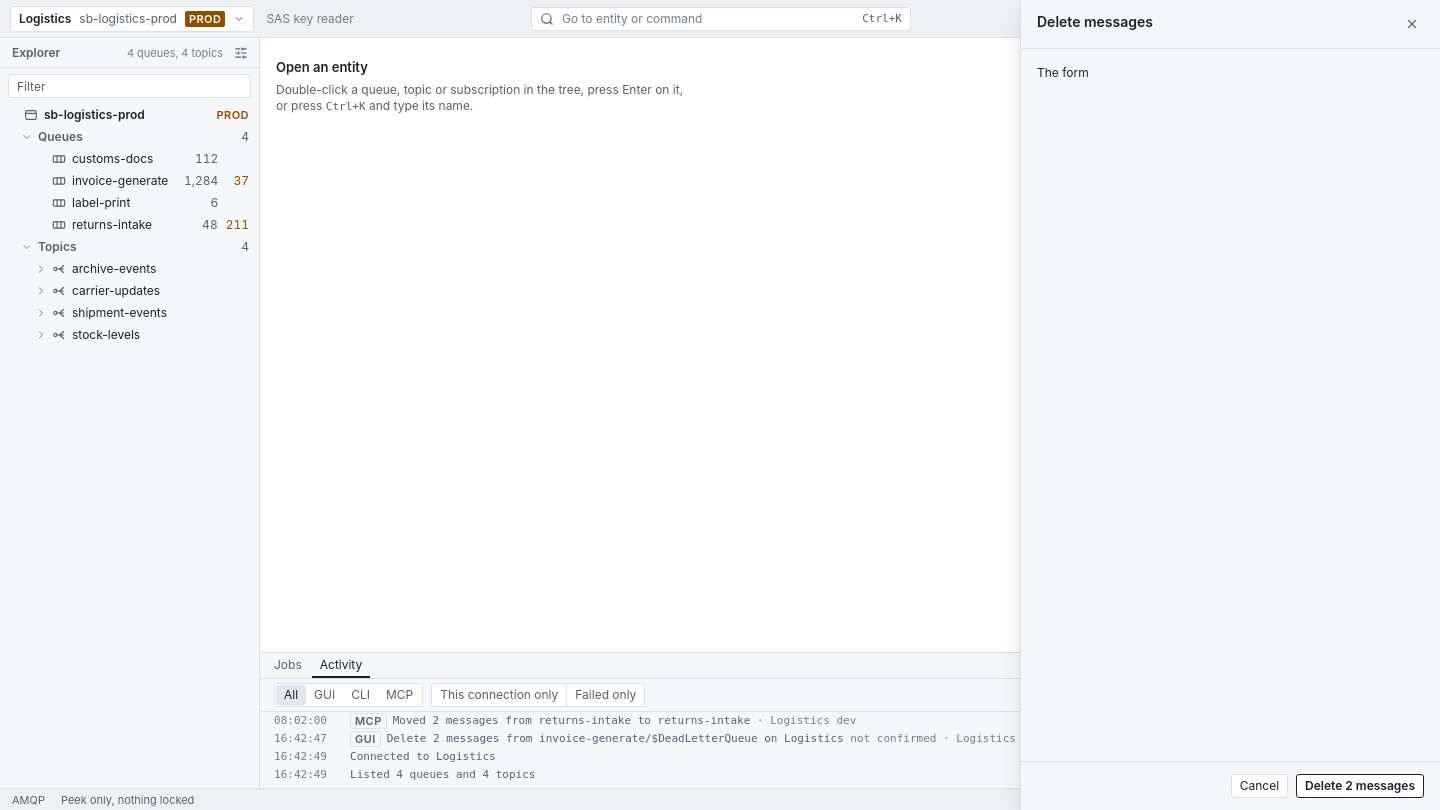
Test case: OperationSheet › a refused start shows the problem in the form and stays on it
The width and height of the screenshot is (1440, 810).
(page scrolled)
Click the button "Delete 2 messages" at x=1360, y=786, box x1=1296 y1=774 x2=1424 y2=798
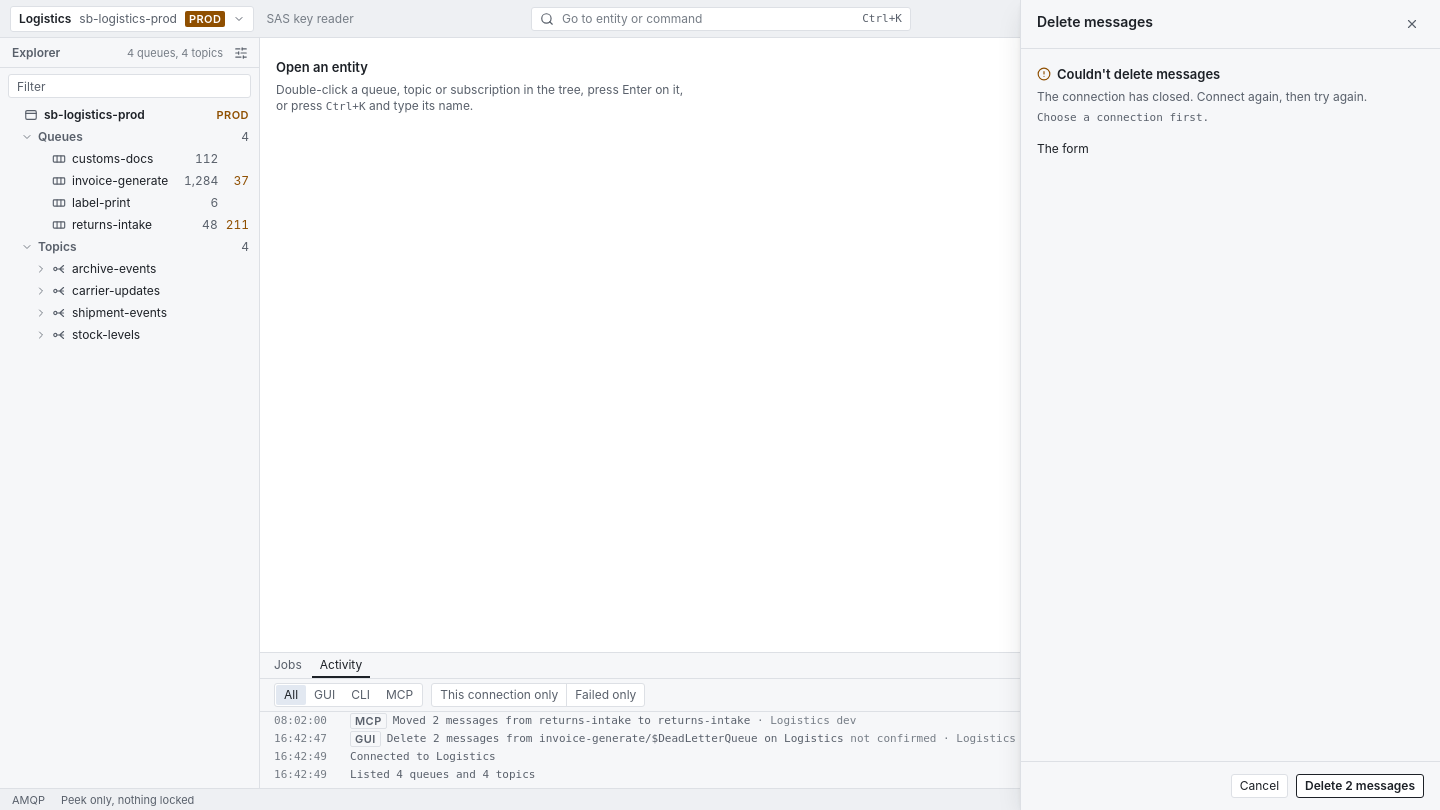
Check: the text "The form" is shown, box x1=1037 y1=141 x2=1089 y2=156
Check: the message shows "Choose a connection first.", box x1=1037 y1=111 x2=1209 y2=124
